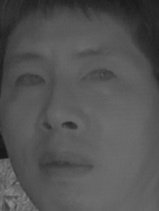eye: (79, 64, 118, 90), (12, 70, 47, 92)
mouth: (35, 147, 97, 186)
